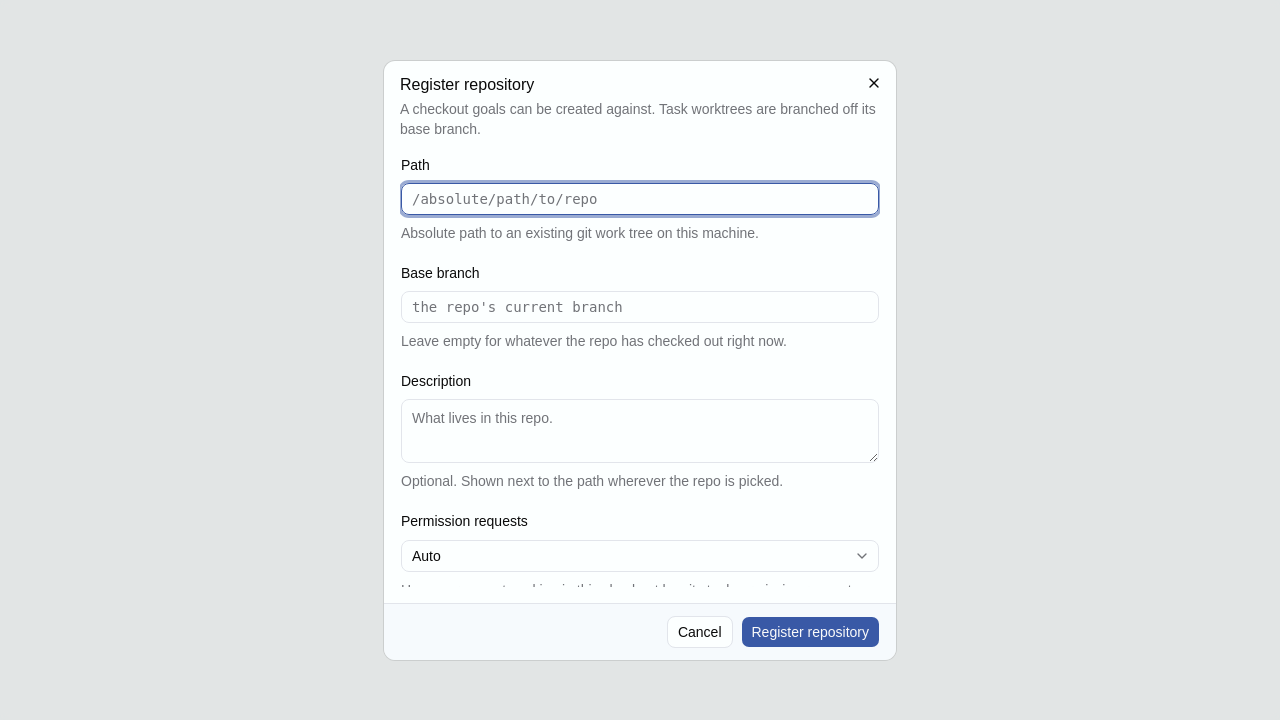
Test: shows the forge switch, off, once a path with a forge is entered
The image size is (1280, 720).
Type "/home/me/dev/widgets" into the field labelled "Path" at (640, 199), box [401,183,879,215]
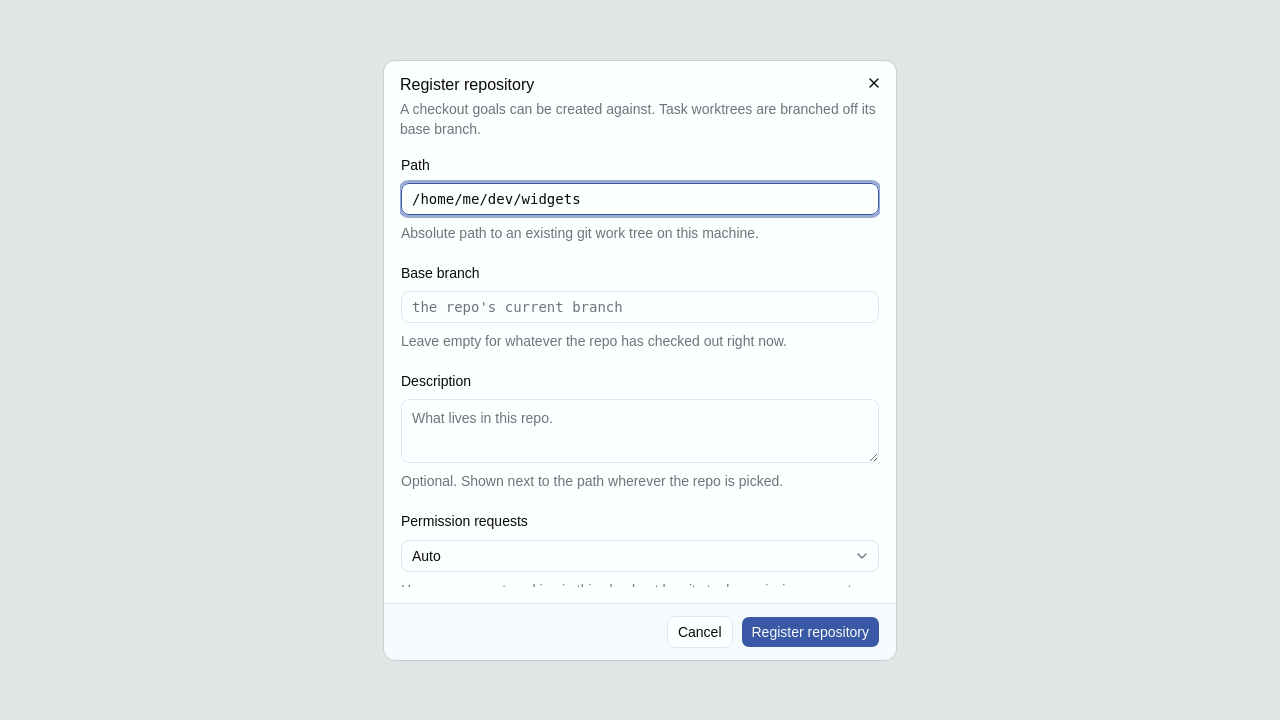
Press Tab
(page scrolled)
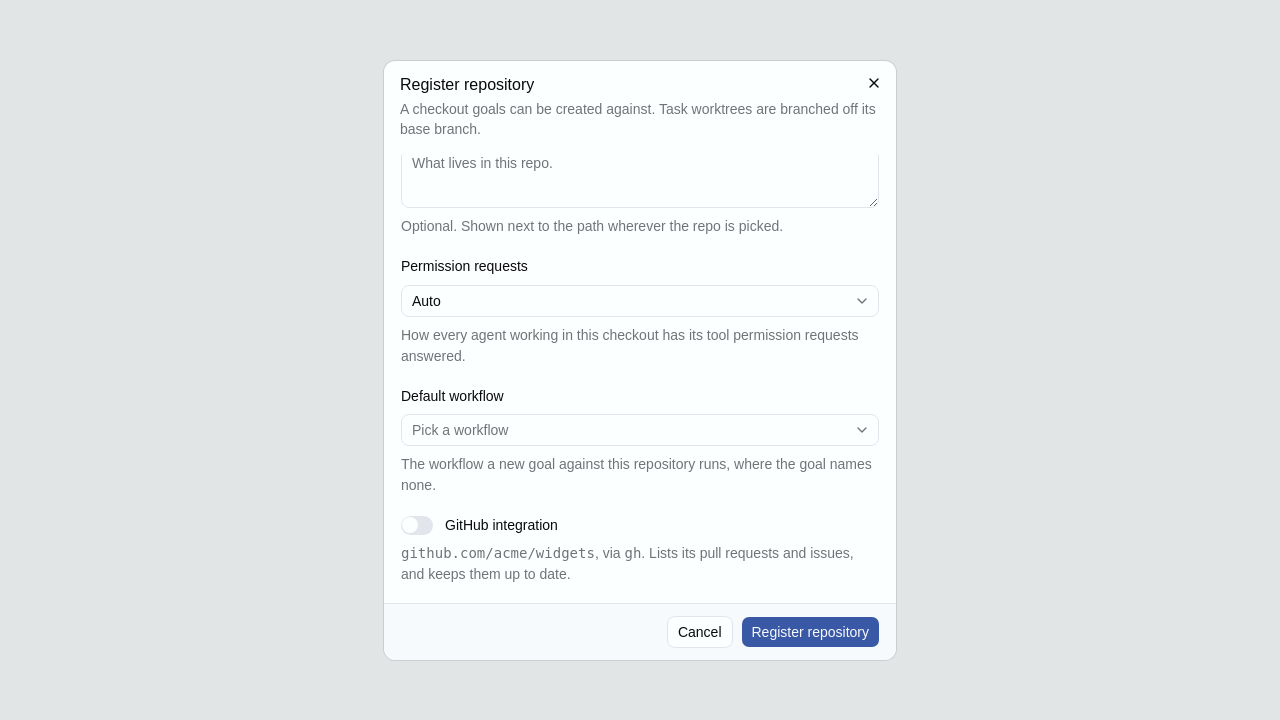
Check: the element with test id "forge-remote" shows "github.com/acme/widgets", box [401,545,595,561]
